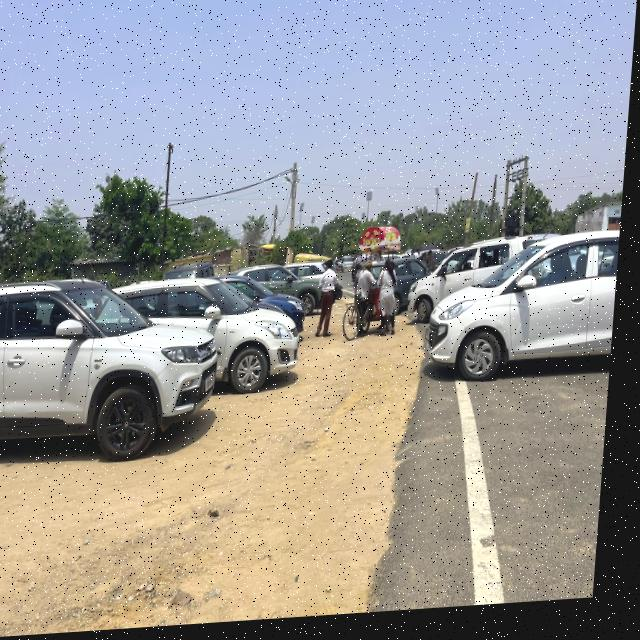car: (0, 255, 233, 490), (429, 235, 624, 415), (105, 263, 314, 419), (409, 237, 515, 336), (239, 266, 339, 321), (398, 257, 433, 314), (166, 259, 223, 286), (344, 257, 360, 283)
